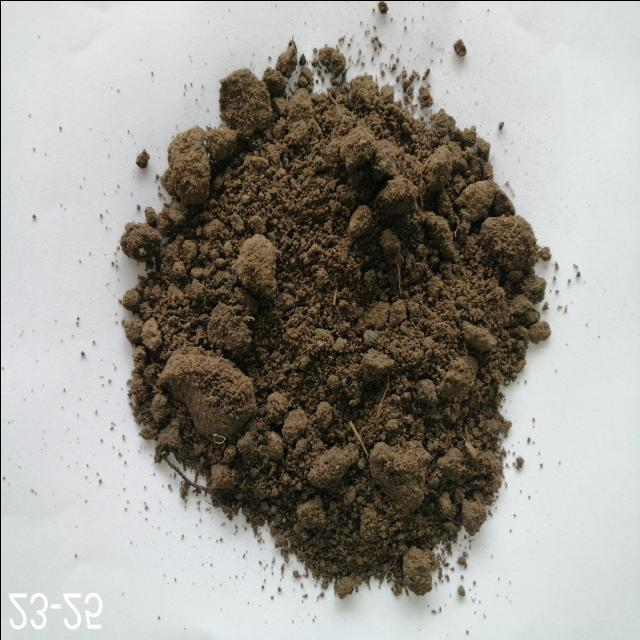soil: (193, 146, 467, 484)
